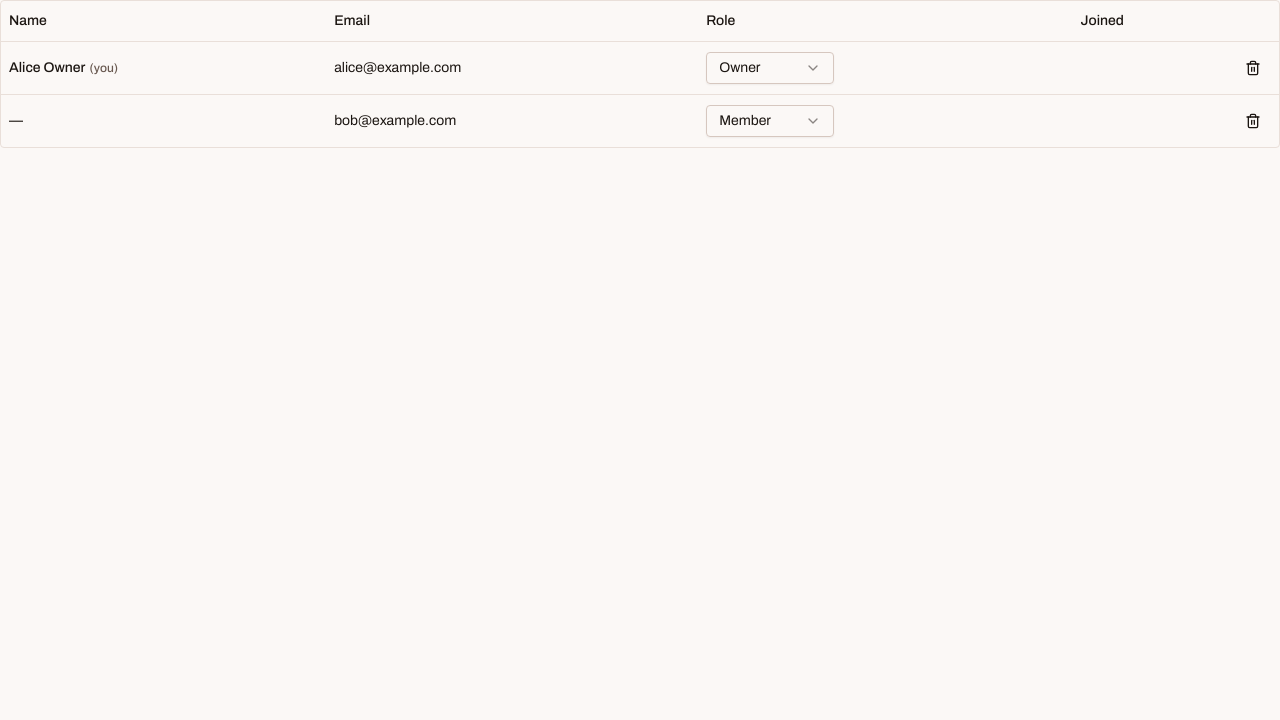
Scenario: MembersTable › tells the current user that removing themself takes their own access
Click the button named "Remove Alice Owner".
click(1253, 68)  # box [1235,50,1271,86]
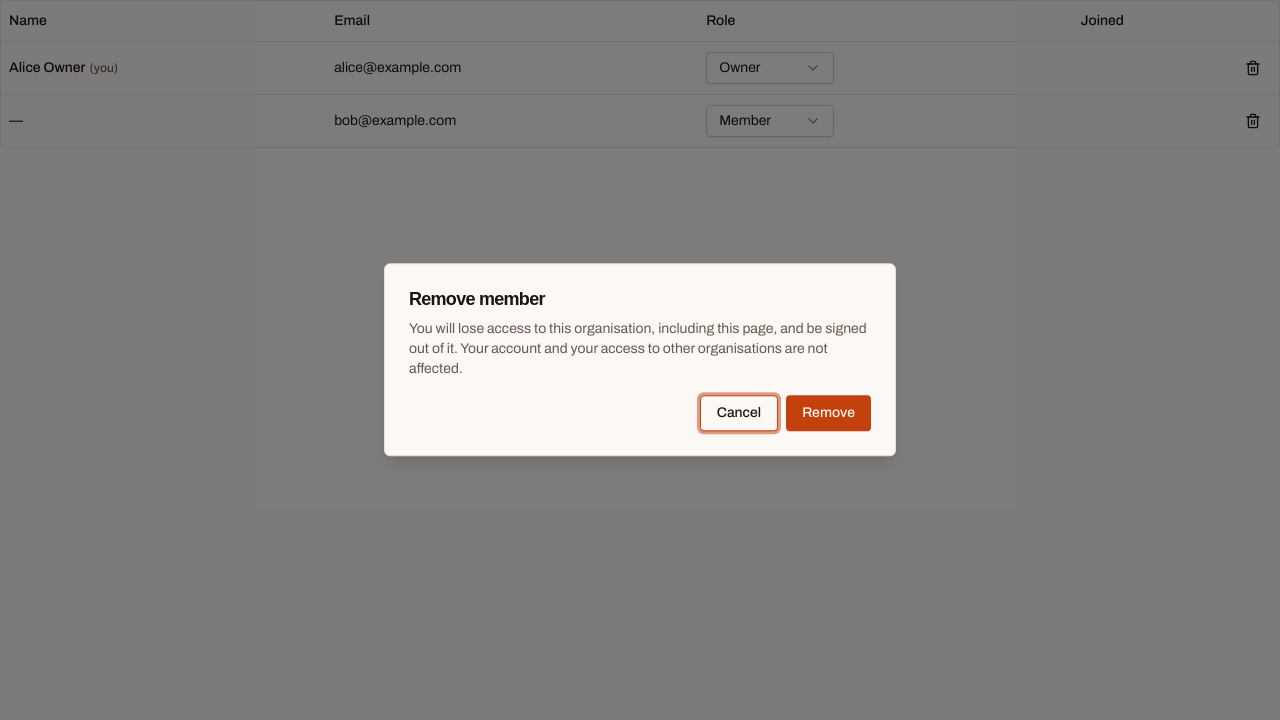
Expected: the text "You will lose access to this organisation" is shown, [409,322,867,377]
